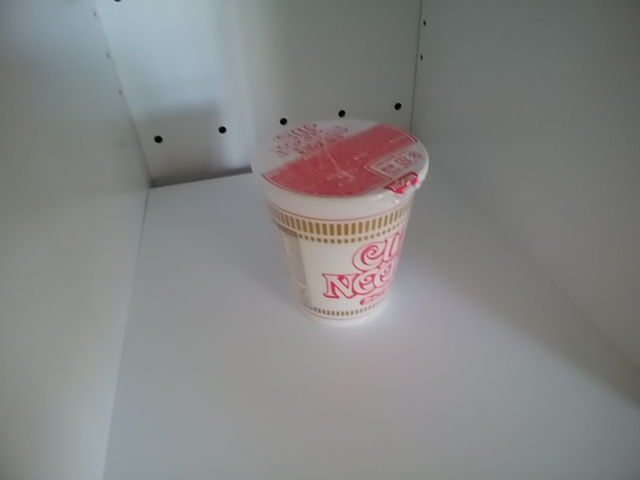cup-ramen: (246, 115, 434, 334)
